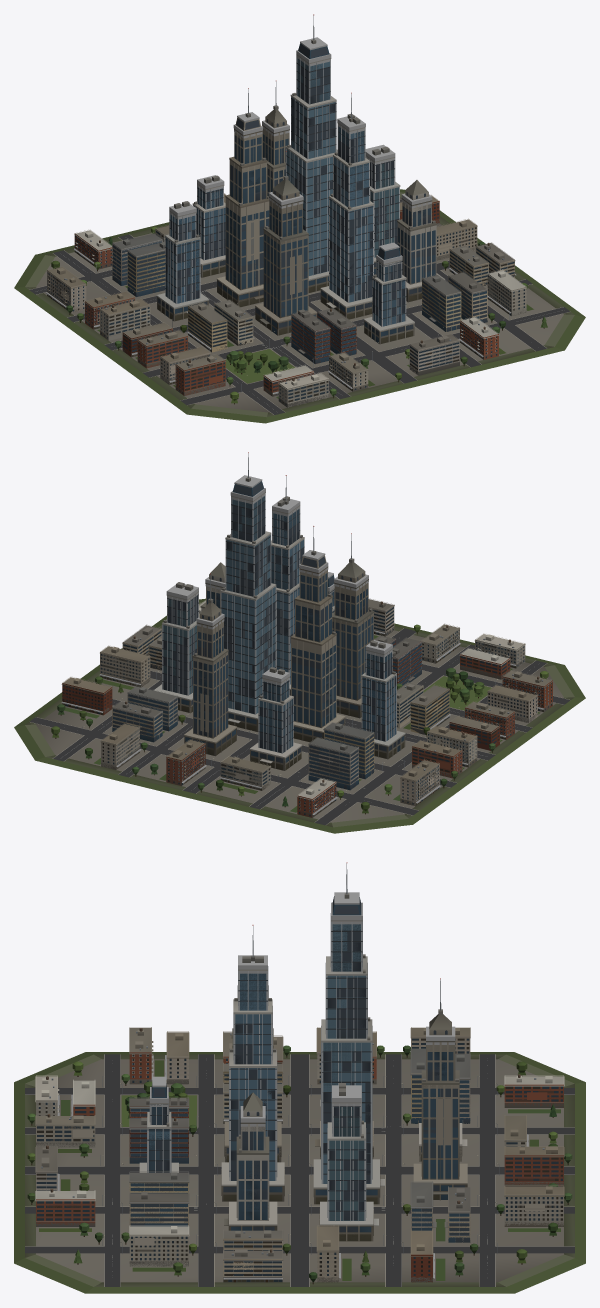
File: city_modern_metropolis.glb
3 renders of one model, top to bottom at view 1: azimuth 30°, elevation 25°; view 2: azimuth 150°, elevation 25°; view 3: azimuth 270°, elevation 25°, orthographic. The views are drawn at different scales.
Parts seen in each view (by area): view 1: city_modern_metropolis_LOD0_mesh, city_modern_metropolis_LOD1_mesh, city_modern_metropolis_LOD2_mesh; view 2: city_modern_metropolis_LOD0_mesh, city_modern_metropolis_LOD1_mesh, city_modern_metropolis_LOD2_mesh; view 3: city_modern_metropolis_LOD0_mesh, city_modern_metropolis_LOD2_mesh, city_modern_metropolis_LOD1_mesh.
Boxes of the visible parts, <box> form: city_modern_metropolis_LOD0_mesh: <box>29,14,570,415</box>; city_modern_metropolis_LOD1_mesh: <box>46,27,544,407</box>; city_modern_metropolis_LOD2_mesh: <box>14,55,585,423</box>; city_modern_metropolis_LOD0_mesh: <box>29,452,570,825</box>; city_modern_metropolis_LOD1_mesh: <box>51,457,552,817</box>; city_modern_metropolis_LOD2_mesh: <box>14,493,585,833</box>; city_modern_metropolis_LOD0_mesh: <box>25,862,574,1286</box>; city_modern_metropolis_LOD2_mesh: <box>14,921,585,1293</box>; city_modern_metropolis_LOD1_mesh: <box>29,875,570,1282</box>.
Size of the model in its own units: 366 by 233 by 366.
